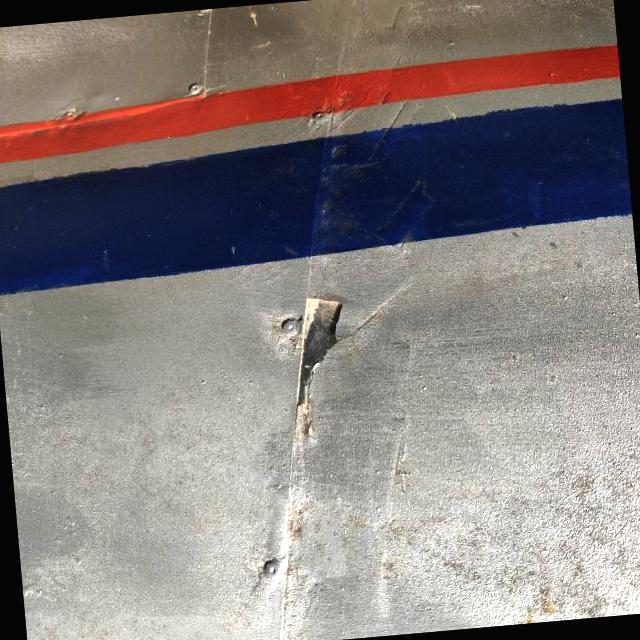paint-off: (236, 262, 392, 438)
